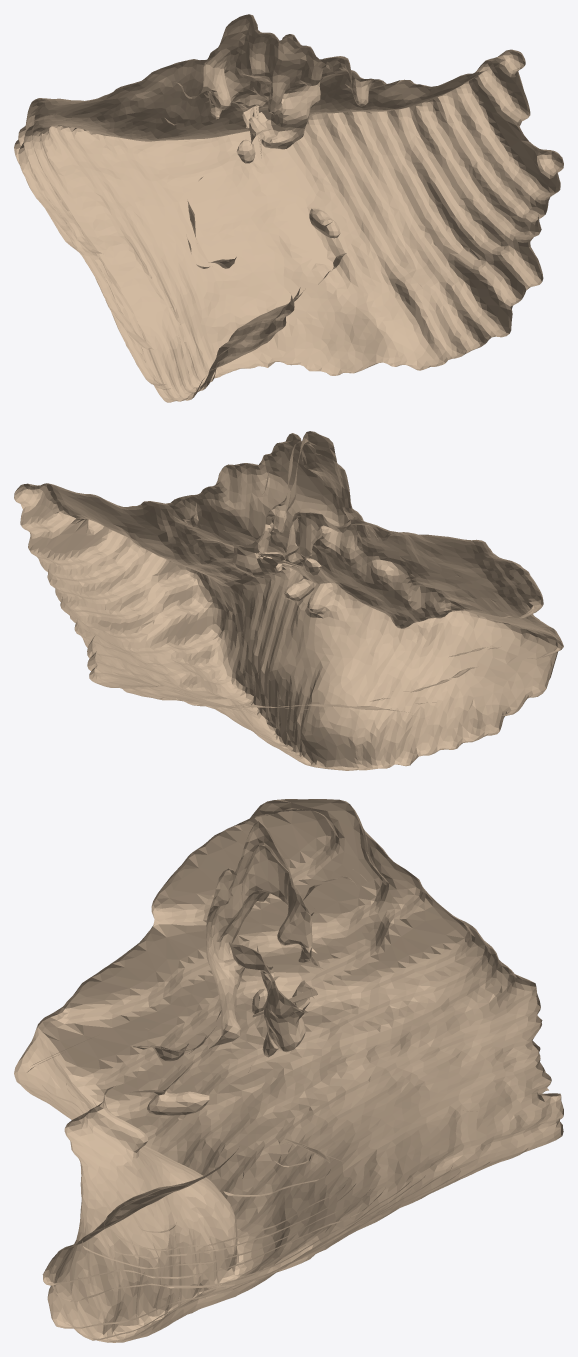
The model's file is fatpad.glb.
3 renders of one model, top to bottom at view 1: azimuth 30°, elevation 25°; view 2: azimuth 150°, elevation 25°; view 3: azimuth 270°, elevation 25°, orthographic. The views are drawn at different scales.
Visible parts, largest first — view 1: geometry_0; view 2: geometry_0; view 3: geometry_0.
Boxes of the visible parts, x1,y1,x2,y2 form: geometry_0: [14, 14, 563, 402]; geometry_0: [14, 431, 563, 770]; geometry_0: [14, 799, 563, 1342].
Size of the model in its own units: 66.01 by 46.16 by 51.26.
